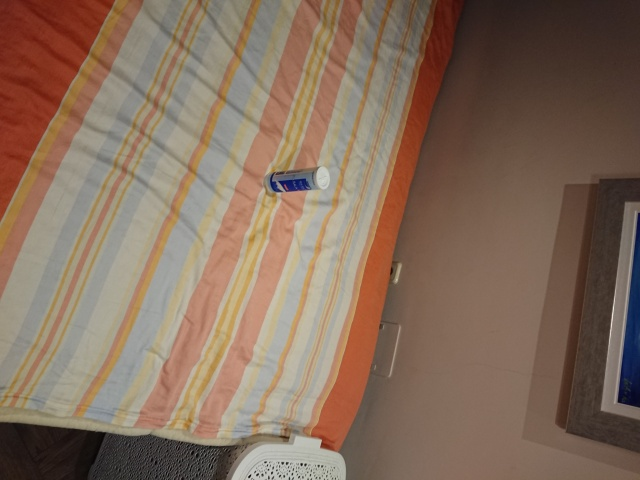Solana Pag Fine Sea Salt 250g: (262, 164, 333, 196)
